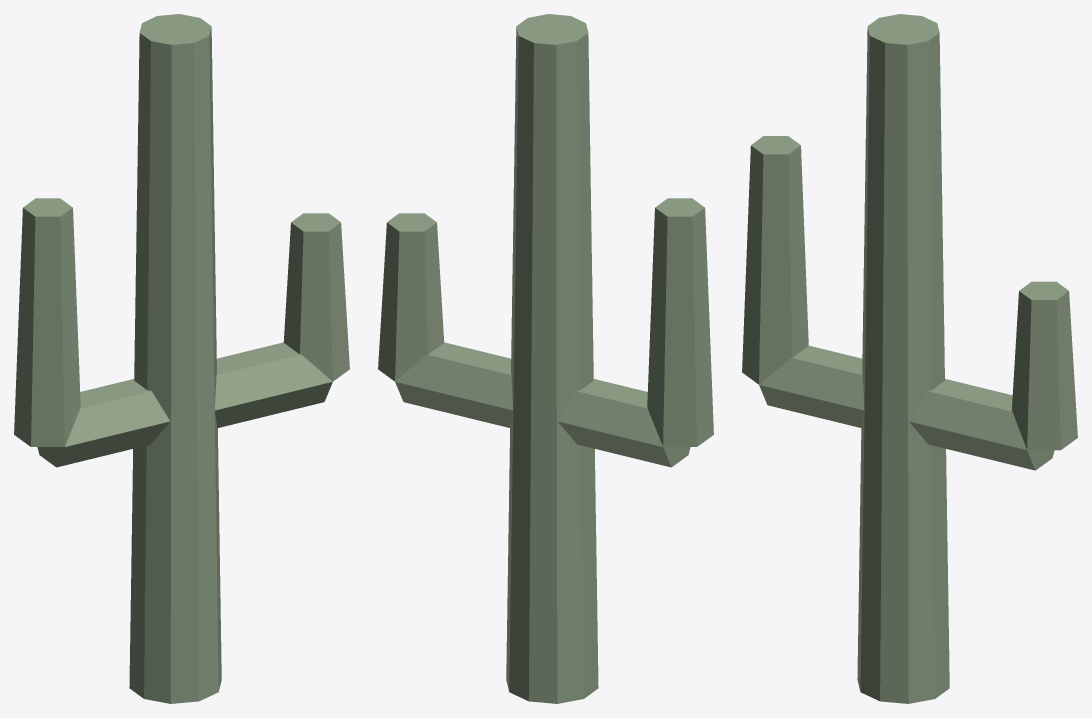
The picture shows the model from 3 angles, left to right: view 1: azimuth 30°, elevation 25°; view 2: azimuth 150°, elevation 25°; view 3: azimuth 330°, elevation 25°; orthographic projection.
Size of the model in its own units: 2.5 by 4.9 by 0.64.
